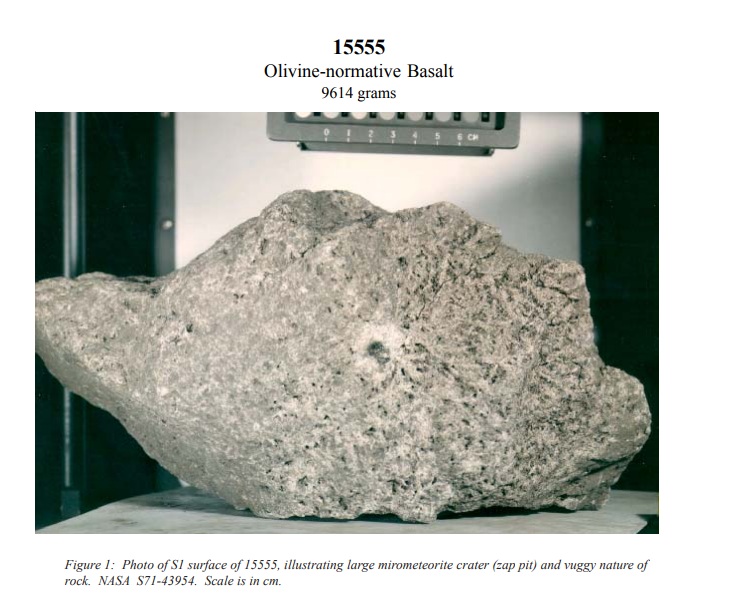Basalt: (37, 170, 644, 509)
